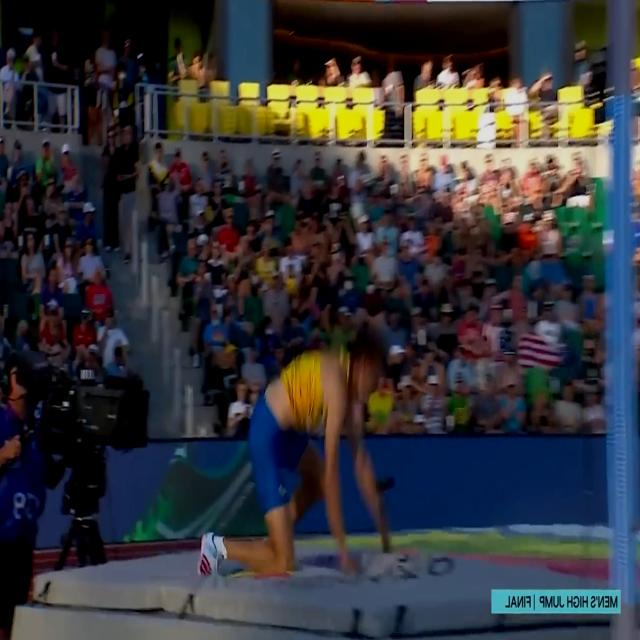land: (198, 331, 390, 578)
